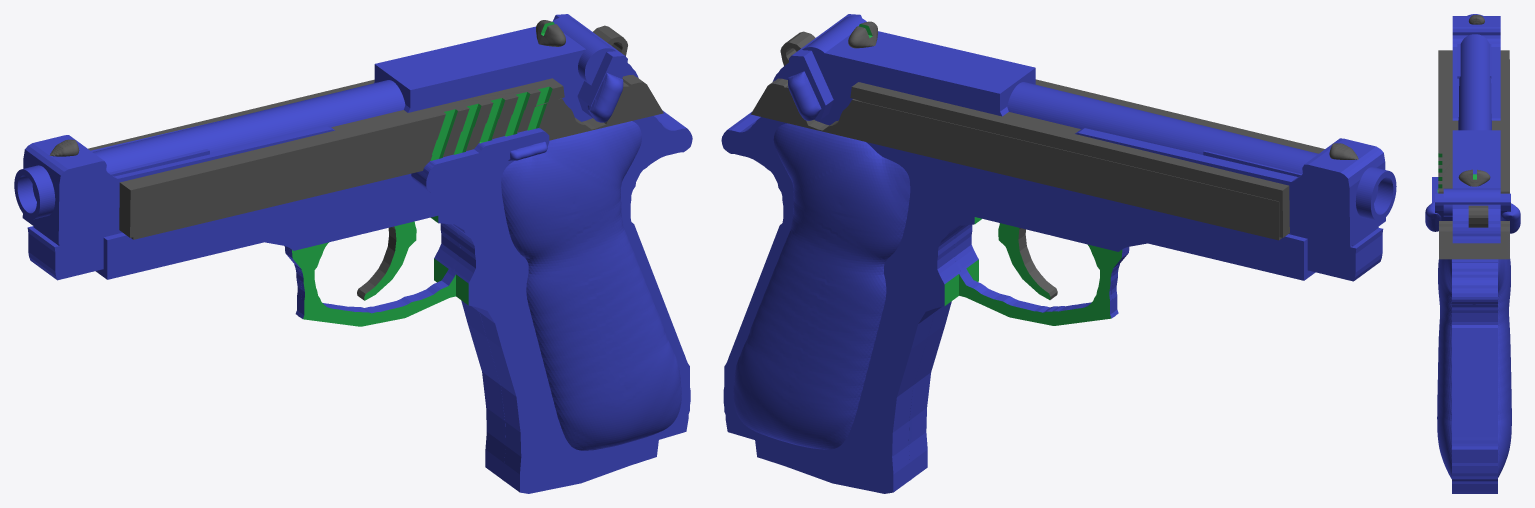
Rendered from KITCHENGUN.glb.
3 renders of one model, left to right at view 1: azimuth 30°, elevation 25°; view 2: azimuth 150°, elevation 25°; view 3: azimuth 270°, elevation 25°, orthographic. The views are drawn at different scales.
Bounding box in the file's own units: 1.22 × 0.8127 × 0.2346.
4 materials, 3 textured.
